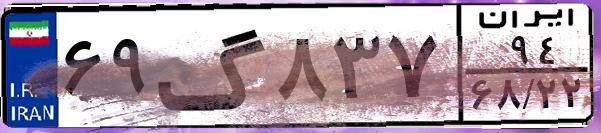2: (560, 70, 590, 125), (535, 70, 560, 125)
3: (330, 28, 385, 110)
4: (537, 27, 568, 80)
6: (57, 26, 110, 100), (470, 70, 495, 125)
7: (385, 28, 445, 110)
8: (270, 28, 330, 110), (495, 70, 520, 125)
9: (110, 28, 156, 98), (508, 27, 537, 80)
گ: (156, 12, 270, 120)
